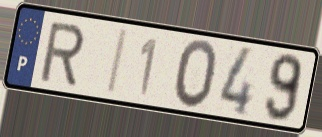1: (138, 37, 159, 97)
4: (217, 44, 256, 119)
9: (260, 51, 304, 125)
I: (104, 27, 131, 98)
O: (172, 37, 220, 111)
R: (37, 21, 87, 88)
